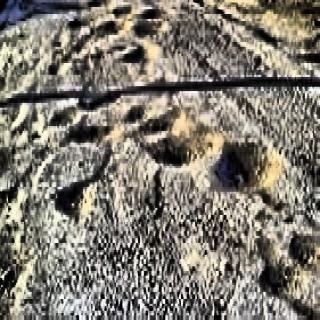pothole: (130, 87, 216, 175), (260, 227, 320, 320), (210, 140, 285, 192), (53, 102, 109, 156), (53, 173, 104, 220), (75, 85, 122, 114), (131, 8, 170, 34), (118, 39, 152, 65), (105, 5, 134, 34)
